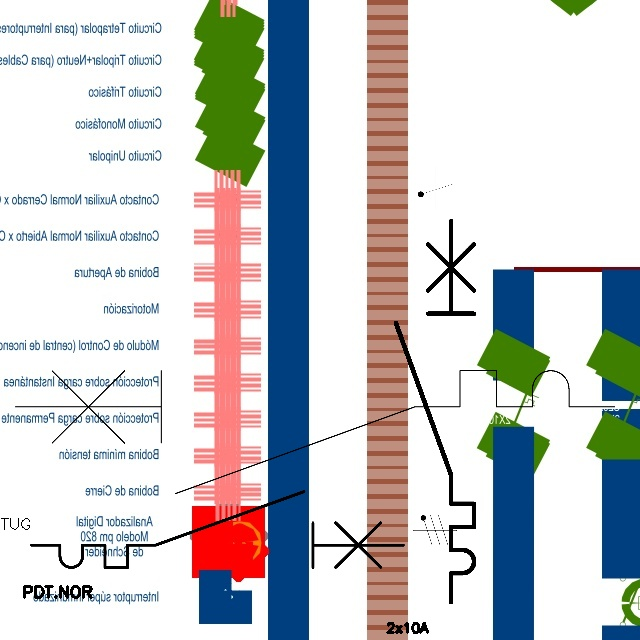interruptor_termomagnetico: (0, 355, 630, 509), (386, 211, 484, 612), (22, 482, 413, 577)
